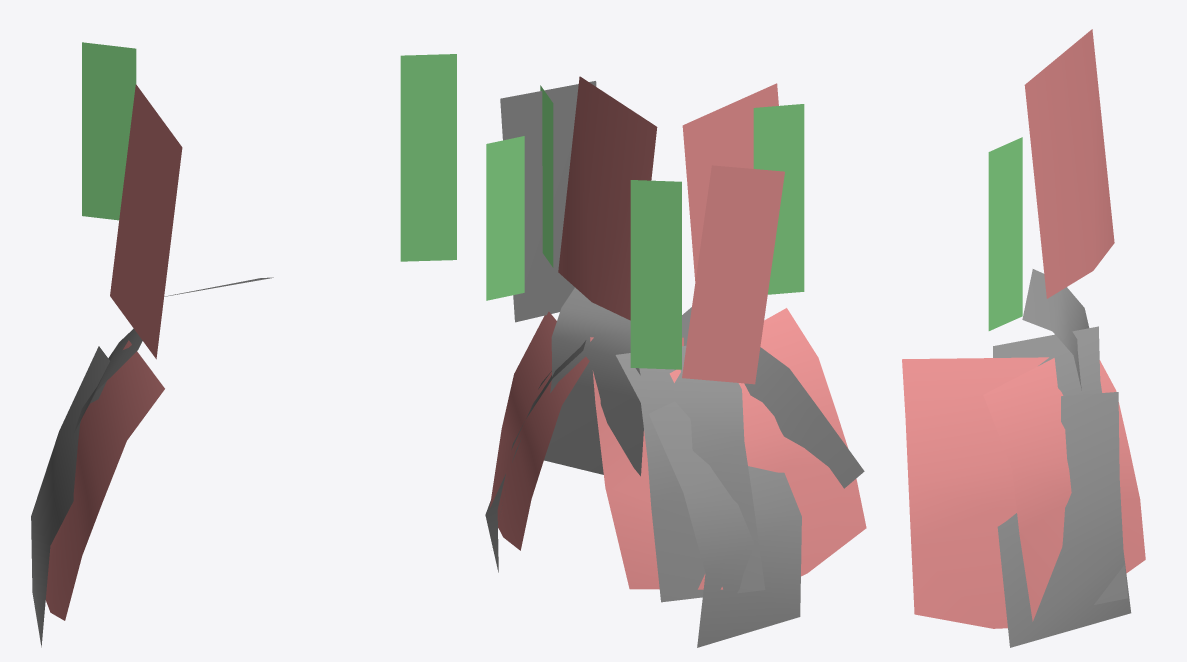
File: PriMT_Tunnel_Entrance_Deco.gltf
3 views of the same model, side by side, from view 1: azimuth 30°, elevation 25°; view 2: azimuth 150°, elevation 25°; view 3: azimuth 270°, elevation 25° (orthographic). The views are drawn at different scales.
Visible parts, largest first — view 1: PriMT_Tunnel_Entrance_Deco; view 2: PriMT_Tunnel_Entrance_Deco; view 3: PriMT_Tunnel_Entrance_Deco.
Boxes of the visible parts, x1,y1,x2,y2 form: PriMT_Tunnel_Entrance_Deco: (31,42,456,647); PriMT_Tunnel_Entrance_Deco: (485,76,866,647); PriMT_Tunnel_Entrance_Deco: (902,29,1145,647).
Bounding box in the file's own units: 8.54 × 11.25 × 5.24.
